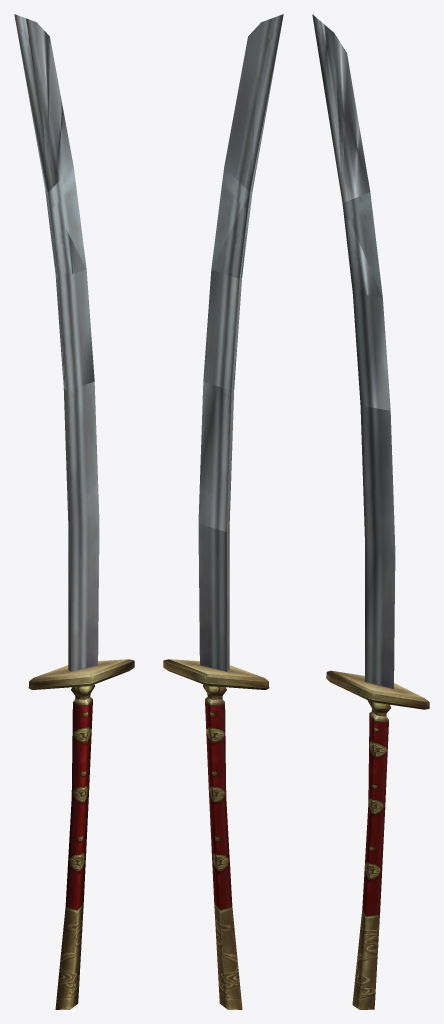
The model's file is 124101@skin.FBX.
3 renders of one model, left to right at view 1: azimuth 30°, elevation 25°; view 2: azimuth 150°, elevation 25°; view 3: azimuth 330°, elevation 25°, orthographic. The views are drawn at different scales.
Parts seen in each view (by area): view 1: 124101; view 2: 124101; view 3: 124101.
Part boxes in pixels (left/top/right/bottom): 124101: left=14, top=14, right=134, bottom=1009; 124101: left=163, top=14, right=283, bottom=1009; 124101: left=312, top=14, right=429, bottom=1009.
Bounding box in the file's own units: 60.83 × 486 × 13.66.
